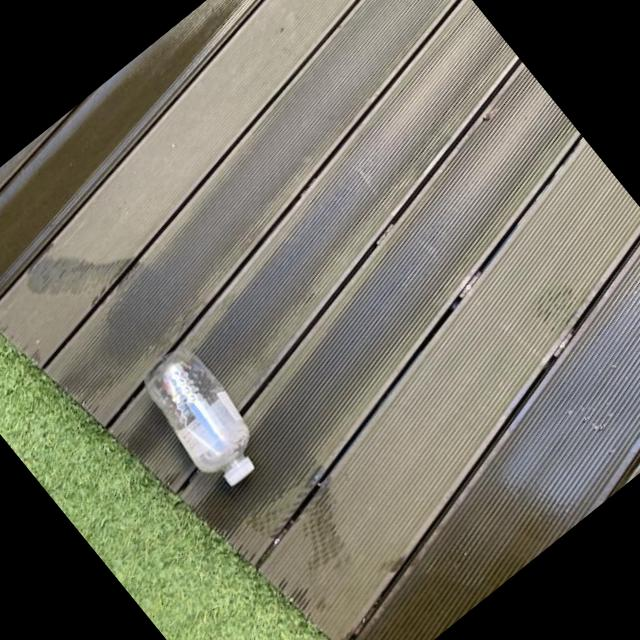BotolPlastik: (127, 335, 279, 498)
